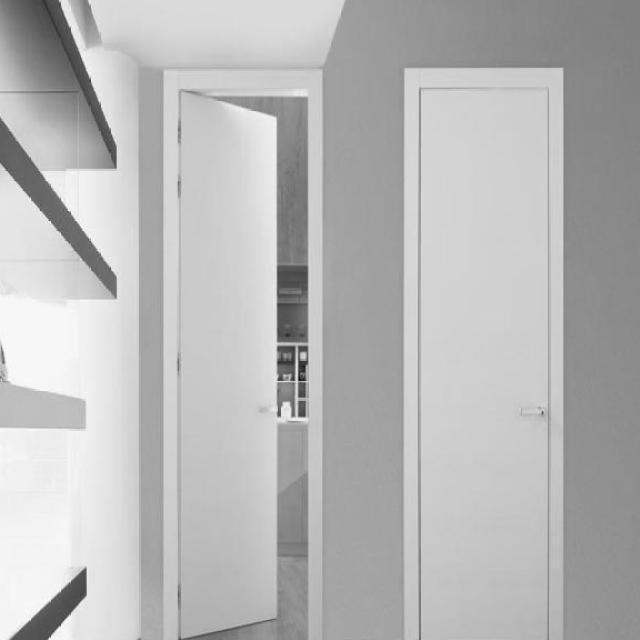door: (408, 67, 559, 639), (177, 90, 279, 638)
